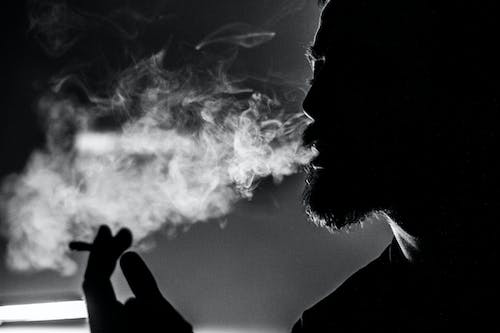cigarette: (66, 239, 94, 254)
